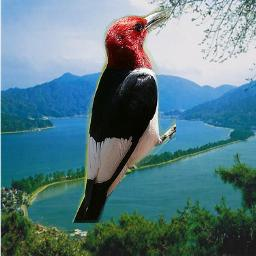Woodpecker: (69, 7, 176, 223)
